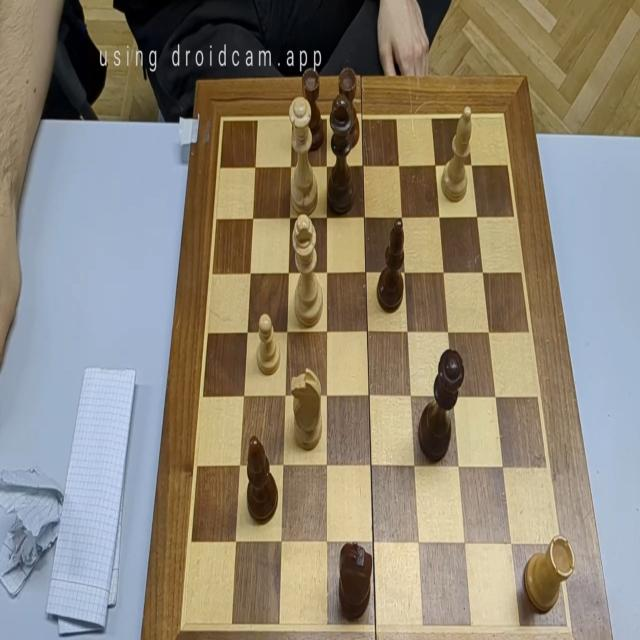black_bishop: (246, 435, 278, 525), (376, 218, 404, 313)
black_king: (327, 93, 356, 216)
black_knight: (339, 541, 372, 622)
black_queen: (418, 348, 465, 464)
black_rook: (302, 68, 324, 152), (338, 67, 360, 150)
white_bishop: (441, 106, 472, 202)
white_king: (292, 213, 323, 328)
white_knight: (290, 366, 322, 451)
white_pawn: (256, 313, 281, 375)
white_queen: (289, 96, 318, 216)
white_rook: (524, 534, 575, 614)
